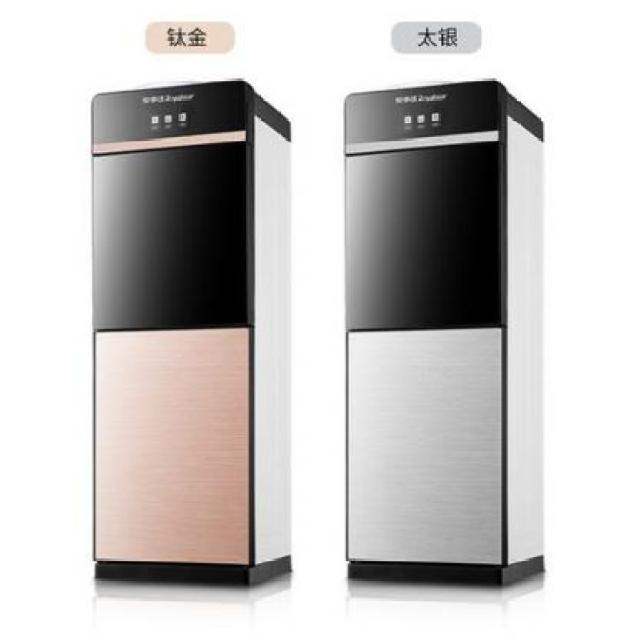cooler: (340, 75, 549, 596), (89, 79, 293, 588)
